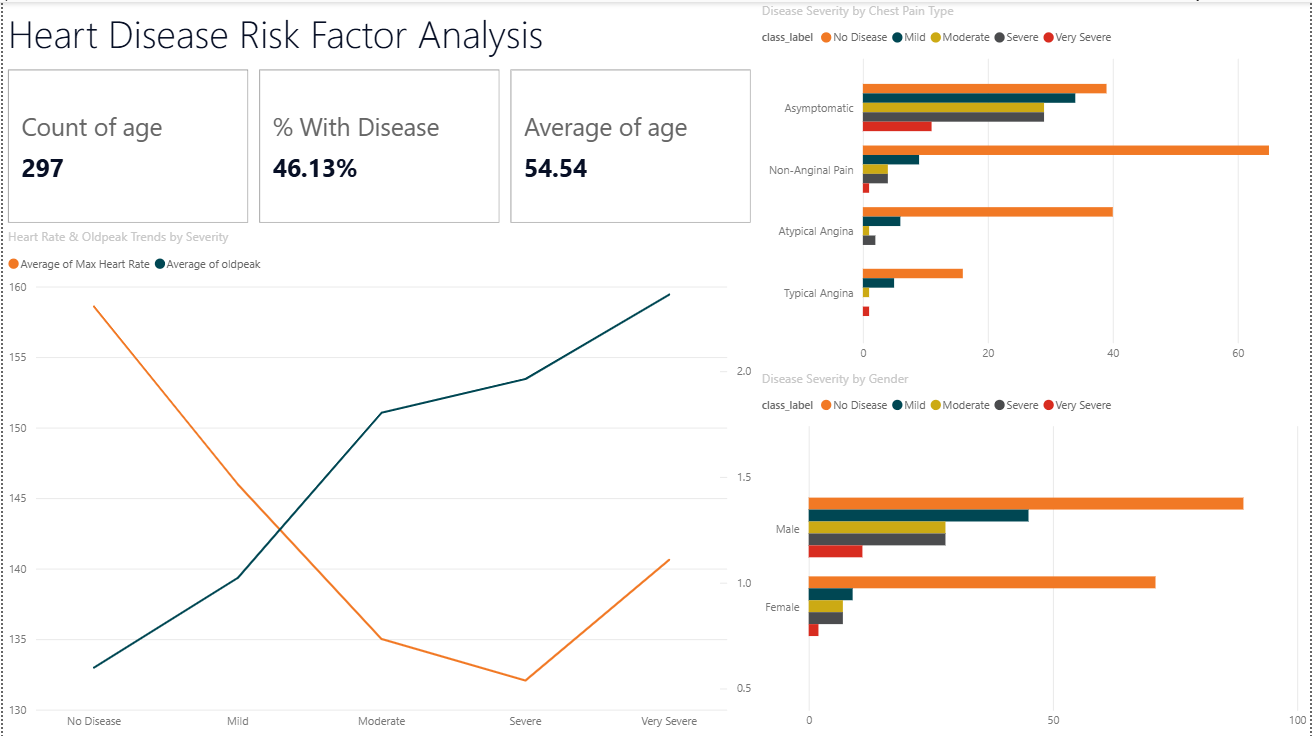

This screenshot's page, from the dashboard's own definition file:
{"tool":"powerbi","page":{"name":"Page 1","canvas":[1280,720],"ordinal":0},"visuals":[{"type":"cardVisual","fields":{"Data":["CountNonNull(clevelanda_cleaned.age)"]},"box":[0,61.4,245.7,160],"z":0},{"type":"cardVisual","fields":{"Data":["clevelanda_cleaned.% With Disease"]},"box":[245.7,61.4,245.7,160],"z":1000},{"type":"cardVisual","fields":{"Data":["Avg(clevelanda_cleaned.age)"]},"box":[491.4,61.4,245.7,160],"z":2000},{"type":"clusteredBarChart","title":"Disease Severity by Gender","fields":{"Category":["clevelanda_cleaned.gender_label"],"Series":["clevelanda_cleaned.class_label"],"Y":["CountNonNull(clevelanda_cleaned.age)"]},"box":[737.1,360,542.9,360],"z":3000},{"type":"clusteredBarChart","title":"Disease Severity by Chest Pain Type","fields":{"Category":["clevelanda_cleaned.cp_label"],"Series":["clevelanda_cleaned.class_label"],"Y":["CountNonNull(clevelanda_cleaned.age)"]},"box":[737.1,0,542.9,360],"z":4000},{"type":"lineChart","title":"Heart Rate & Oldpeak Trends by Severity","fields":{"Category":["clevelanda_cleaned.class_label"],"Y":["Avg(clevelanda_cleaned.Max Heart Rate)"],"Y2":["Avg(clevelanda_cleaned.oldpeak)"]},"box":[0,221.4,737.1,498.6],"z":5000},{"type":"textbox","box":[0,0,737.1,61.4],"z":6000}]}

Visuals, with their boxes in screenshot pixels (x1, y1, x2, y2), scaled from the page's 1280x720 canvas onto the 1312x737 screenshot:
cardVisual - CountNonNull(clevelanda_cleaned.age): pyautogui.locateOnScreen(0, 63, 252, 227)
cardVisual - clevelanda_cleaned.% With Disease: pyautogui.locateOnScreen(252, 63, 504, 227)
cardVisual - Avg(clevelanda_cleaned.age): pyautogui.locateOnScreen(504, 63, 756, 227)
"Disease Severity by Gender" clusteredBarChart: pyautogui.locateOnScreen(756, 368, 1311, 736)
"Disease Severity by Chest Pain Type" clusteredBarChart: pyautogui.locateOnScreen(756, 0, 1311, 368)
"Heart Rate & Oldpeak Trends by Severity" lineChart: pyautogui.locateOnScreen(0, 227, 756, 736)
textbox: pyautogui.locateOnScreen(0, 0, 756, 63)
